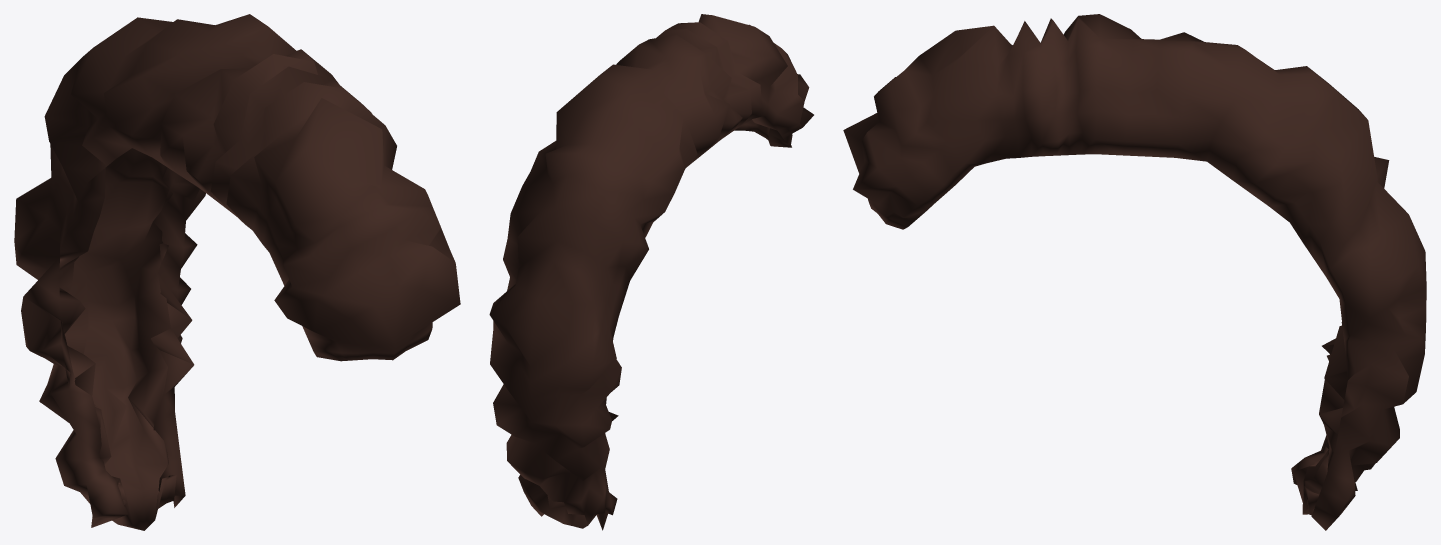
Rendered from Hair03.fbx.
3 renders of one model, left to right at view 1: azimuth 30°, elevation 25°; view 2: azimuth 150°, elevation 25°; view 3: azimuth 270°, elevation 25°, orthographic. The views are drawn at different scales.
Visible parts, largest first — view 1: Hair03; view 2: Hair03; view 3: Hair03.
Part boxes in pixels (x1,y1,x2,y2): Hair03: (14, 14, 460, 530); Hair03: (489, 14, 813, 530); Hair03: (843, 14, 1426, 530).
Size of the model in its own units: 10.41 by 31.94 by 34.04.
